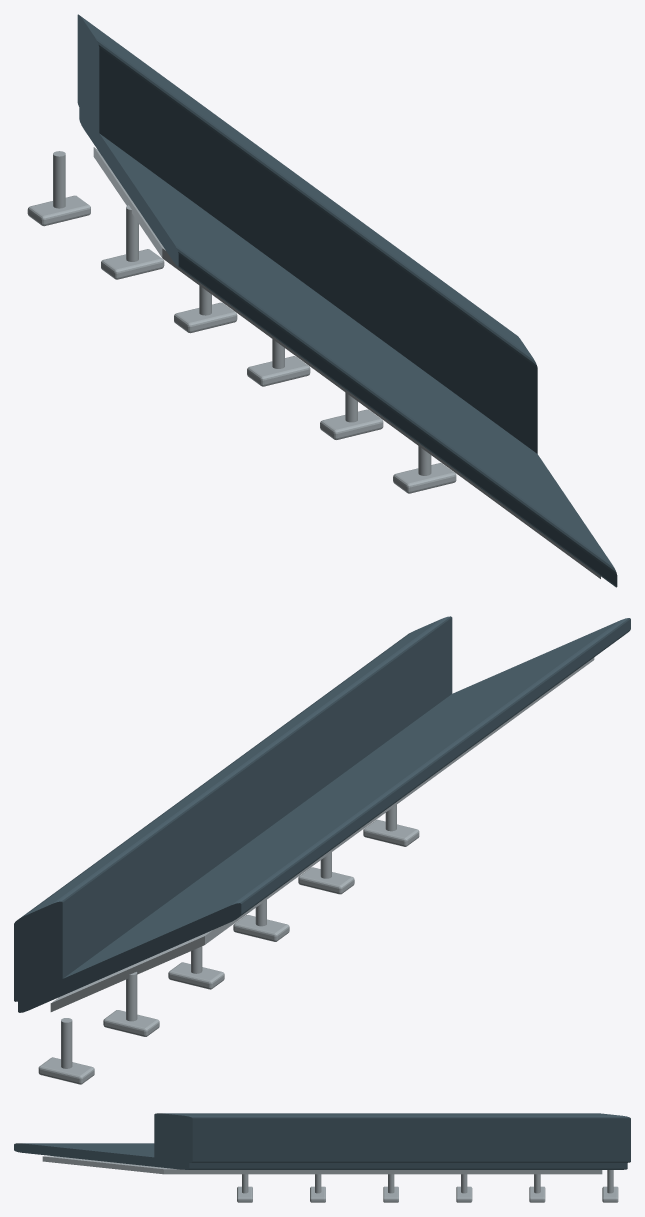
Rendered from cabin_bench_length_550cm_left.glb.
3 views of the same model, one above another, from view 1: azimuth 30°, elevation 25°; view 2: azimuth 150°, elevation 25°; view 3: azimuth 270°, elevation 25° (orthographic). The views are drawn at different scales.
Visible parts, largest first — view 1: Bench upright back.026, Bench seat cushion.026, Bench support beam.026, Bench foot.077, Bench foot.072, Bench foot.075, Bench foot.074, Bench foot.073, Bench foot.076; view 2: Bench upright back.026, Bench seat cushion.026, Bench support beam.026, Bench foot.075, Bench foot.073, Bench foot.077, Bench foot.072, Bench foot.074, Bench foot.076; view 3: Bench upright back.026, Bench seat cushion.026, Bench support beam.026, Bench foot.077, Bench foot.076, Bench foot.075, Bench foot.072, Bench foot.073, Bench foot.074, Bench pedestal.077.
Part boxes in pixels (bbox=[...]): Bench upright back.026: bbox=[77, 14, 537, 453]; Bench seat cushion.026: bbox=[79, 107, 617, 587]; Bench support beam.026: bbox=[93, 147, 600, 578]; Bench foot.077: bbox=[27, 195, 90, 226]; Bench foot.072: bbox=[393, 463, 456, 493]; Bench foot.075: bbox=[174, 302, 237, 333]; Bench foot.074: bbox=[247, 356, 310, 386]; Bench foot.073: bbox=[320, 409, 383, 439]; Bench foot.076: bbox=[101, 249, 164, 279]; Bench upright back.026: bbox=[14, 616, 452, 1001]; Bench seat cushion.026: bbox=[18, 618, 630, 1012]; Bench support beam.026: bbox=[50, 657, 594, 1011]; Bench foot.075: bbox=[168, 962, 224, 989]; Bench foot.073: bbox=[298, 867, 354, 894]; Bench foot.077: bbox=[38, 1057, 94, 1084]; Bench foot.072: bbox=[363, 819, 419, 846]; Bench foot.074: bbox=[233, 915, 289, 941]; Bench foot.076: bbox=[103, 1010, 159, 1036]; Bench upright back.026: bbox=[154, 1113, 630, 1162]; Bench seat cushion.026: bbox=[14, 1143, 627, 1169]; Bench support beam.026: bbox=[42, 1156, 602, 1174]; Bench foot.077: bbox=[602, 1186, 618, 1202]; Bench foot.076: bbox=[529, 1186, 545, 1202]; Bench foot.075: bbox=[456, 1186, 472, 1202]; Bench foot.072: bbox=[237, 1186, 252, 1202]; Bench foot.073: bbox=[310, 1186, 325, 1202]; Bench foot.074: bbox=[383, 1186, 398, 1202]; Bench pedestal.077: bbox=[607, 1170, 613, 1193].
Bounding box in the file's own units: 0.56 × 1.25 × 7.74.
